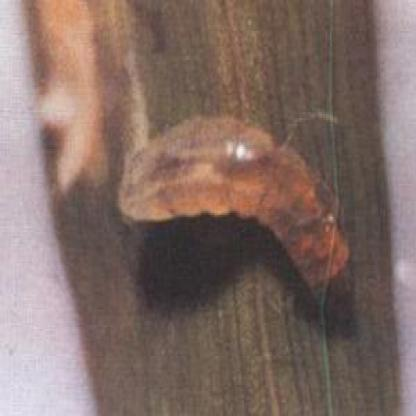whorl-maggot: (118, 110, 352, 296)
